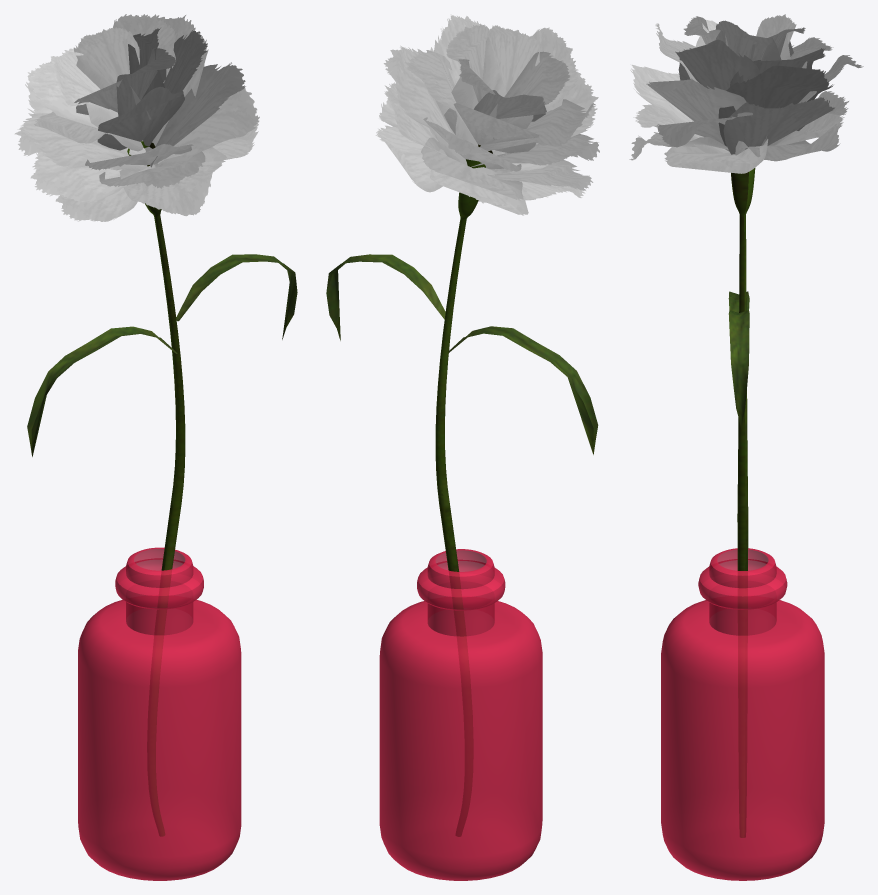
The model's file is carnations.glb.
3 views of the same model, side by side, from view 1: azimuth 30°, elevation 25°; view 2: azimuth 150°, elevation 25°; view 3: azimuth 270°, elevation 25° (orthographic).
Visible parts, largest first — view 1: Cylinder.002_3, BezierCurve.075_4, BezierCurve.060_0, Plane.090_2, Plane.089_1; view 2: Cylinder.002_3, BezierCurve.075_4, BezierCurve.060_0, Plane.090_2, Plane.089_1; view 3: Cylinder.002_3, BezierCurve.075_4, BezierCurve.060_0, Plane.089_1.
Part boxes in pixels (left/top/right/bottom): Cylinder.002_3: left=78, top=547, right=241, bottom=880; BezierCurve.075_4: left=14, top=14, right=259, bottom=221; BezierCurve.060_0: left=127, top=141, right=185, bottom=835; Plane.090_2: left=27, top=326, right=177, bottom=456; Plane.089_1: left=176, top=254, right=297, bottom=339; Cylinder.002_3: left=379, top=549, right=542, bottom=880; BezierCurve.075_4: left=375, top=14, right=599, bottom=215; BezierCurve.060_0: left=435, top=144, right=492, bottom=836; Plane.090_2: left=448, top=326, right=598, bottom=454; Plane.089_1: left=326, top=254, right=445, bottom=340; Cylinder.002_3: left=661, top=548, right=824, bottom=880; BezierCurve.075_4: left=629, top=14, right=863, bottom=173; BezierCurve.060_0: left=731, top=168, right=755, bottom=837; Plane.089_1: left=728, top=310, right=749, bottom=428.
Size of the model in its own units: 34.3 by 101 by 26.03.
4 materials, 3 textured.
